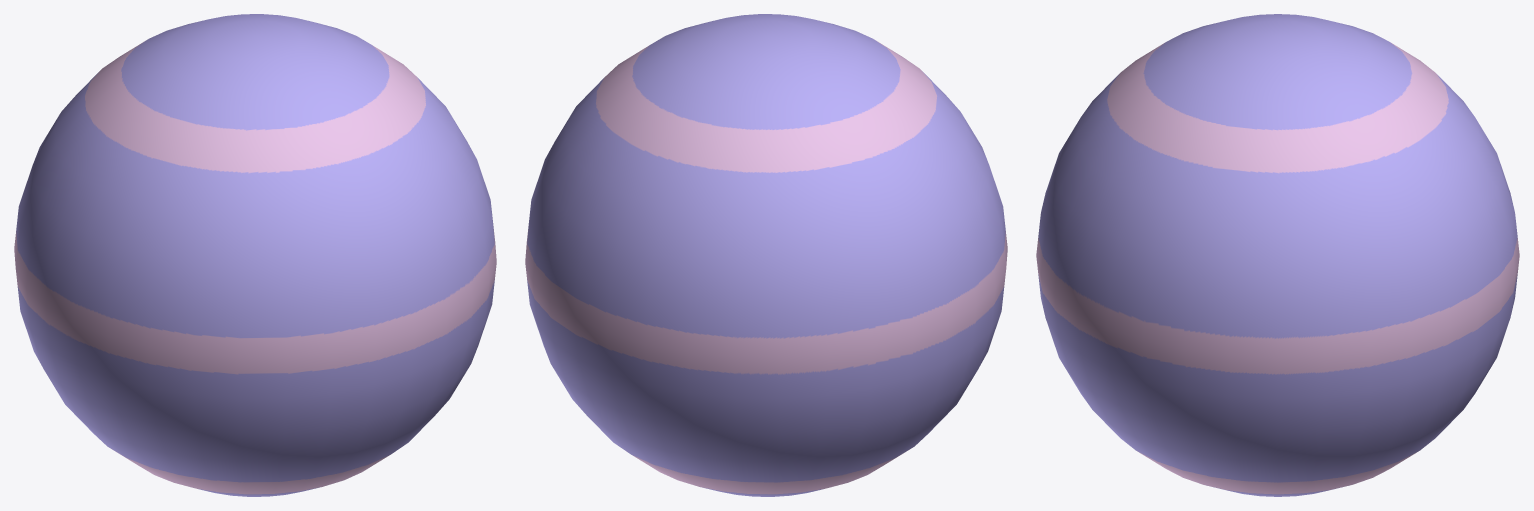
Rendered from bola ungu.fbx.
The picture shows the model from 3 angles, left to right: view 1: azimuth 30°, elevation 25°; view 2: azimuth 150°, elevation 25°; view 3: azimuth 270°, elevation 25°; orthographic projection.
Visible parts, largest first — view 1: bola ungu; view 2: bola ungu; view 3: bola ungu.
Part boxes in pixels (box(x1,y1,x2,y2)): bola ungu: box(14, 14, 496, 496); bola ungu: box(525, 14, 1007, 496); bola ungu: box(1036, 14, 1519, 496).
Bounding box in the file's own units: 200 × 200 × 200.
1 material, 1 textured.
